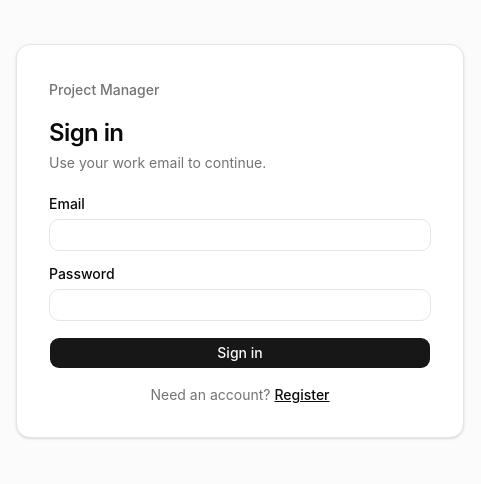
Test: LoginPage › shows field errors when the form is submitted empty
Click the button "Sign in" at x=240, y=353, box top-left (49, 337), bottom-right (431, 369)
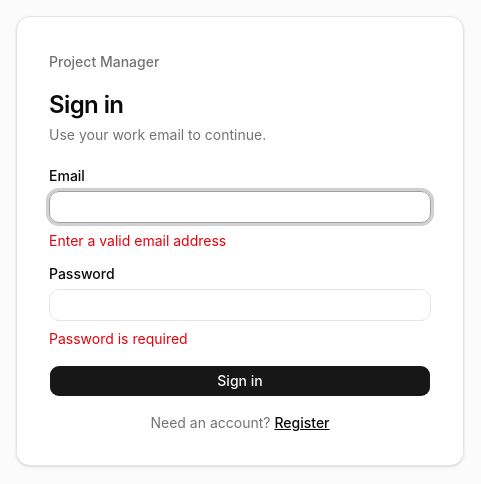
Expected: the text "Enter a valid email address" is shown, top-left (49, 232), bottom-right (226, 249)
Expected: the text "Password is required" is shown, top-left (49, 330), bottom-right (188, 347)
